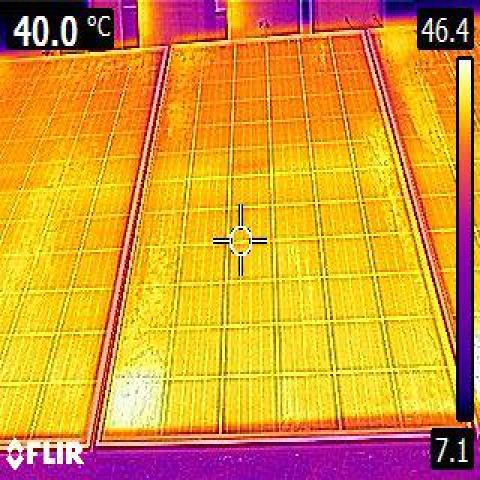fault: (115, 376, 162, 431)
